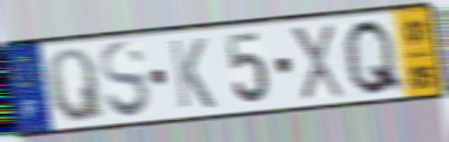5: (224, 29, 273, 107)
K: (166, 36, 218, 112)
Q: (341, 17, 408, 99), (45, 45, 108, 125)
S: (97, 38, 154, 122)
X: (287, 21, 348, 103)
